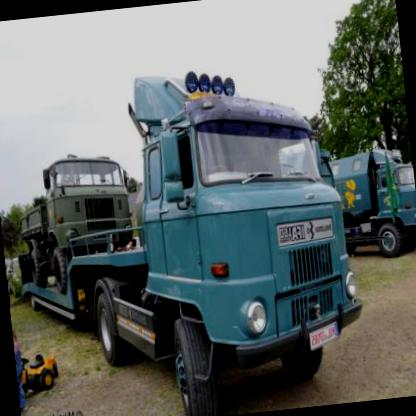truck: (31, 52, 392, 415), (6, 143, 141, 317), (307, 140, 415, 273), (400, 158, 415, 250)
